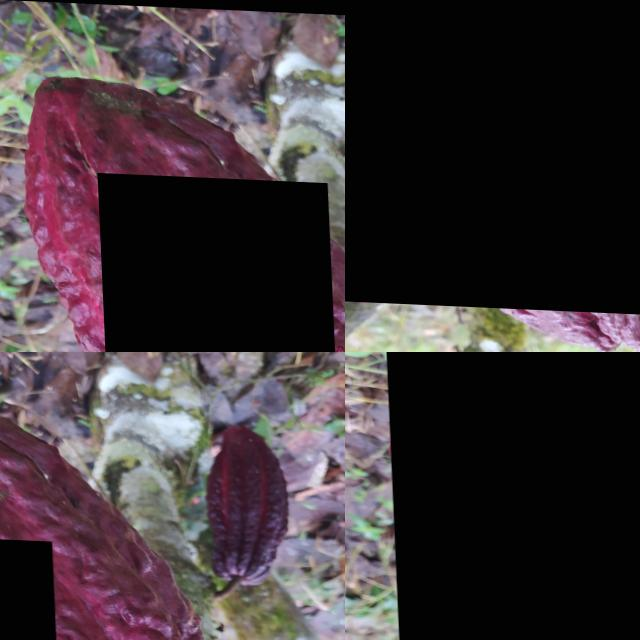Fitoftora: (25, 499, 176, 640)
Monilia: (95, 171, 335, 352)
Sana: (345, 0, 640, 311), (384, 352, 640, 640)
